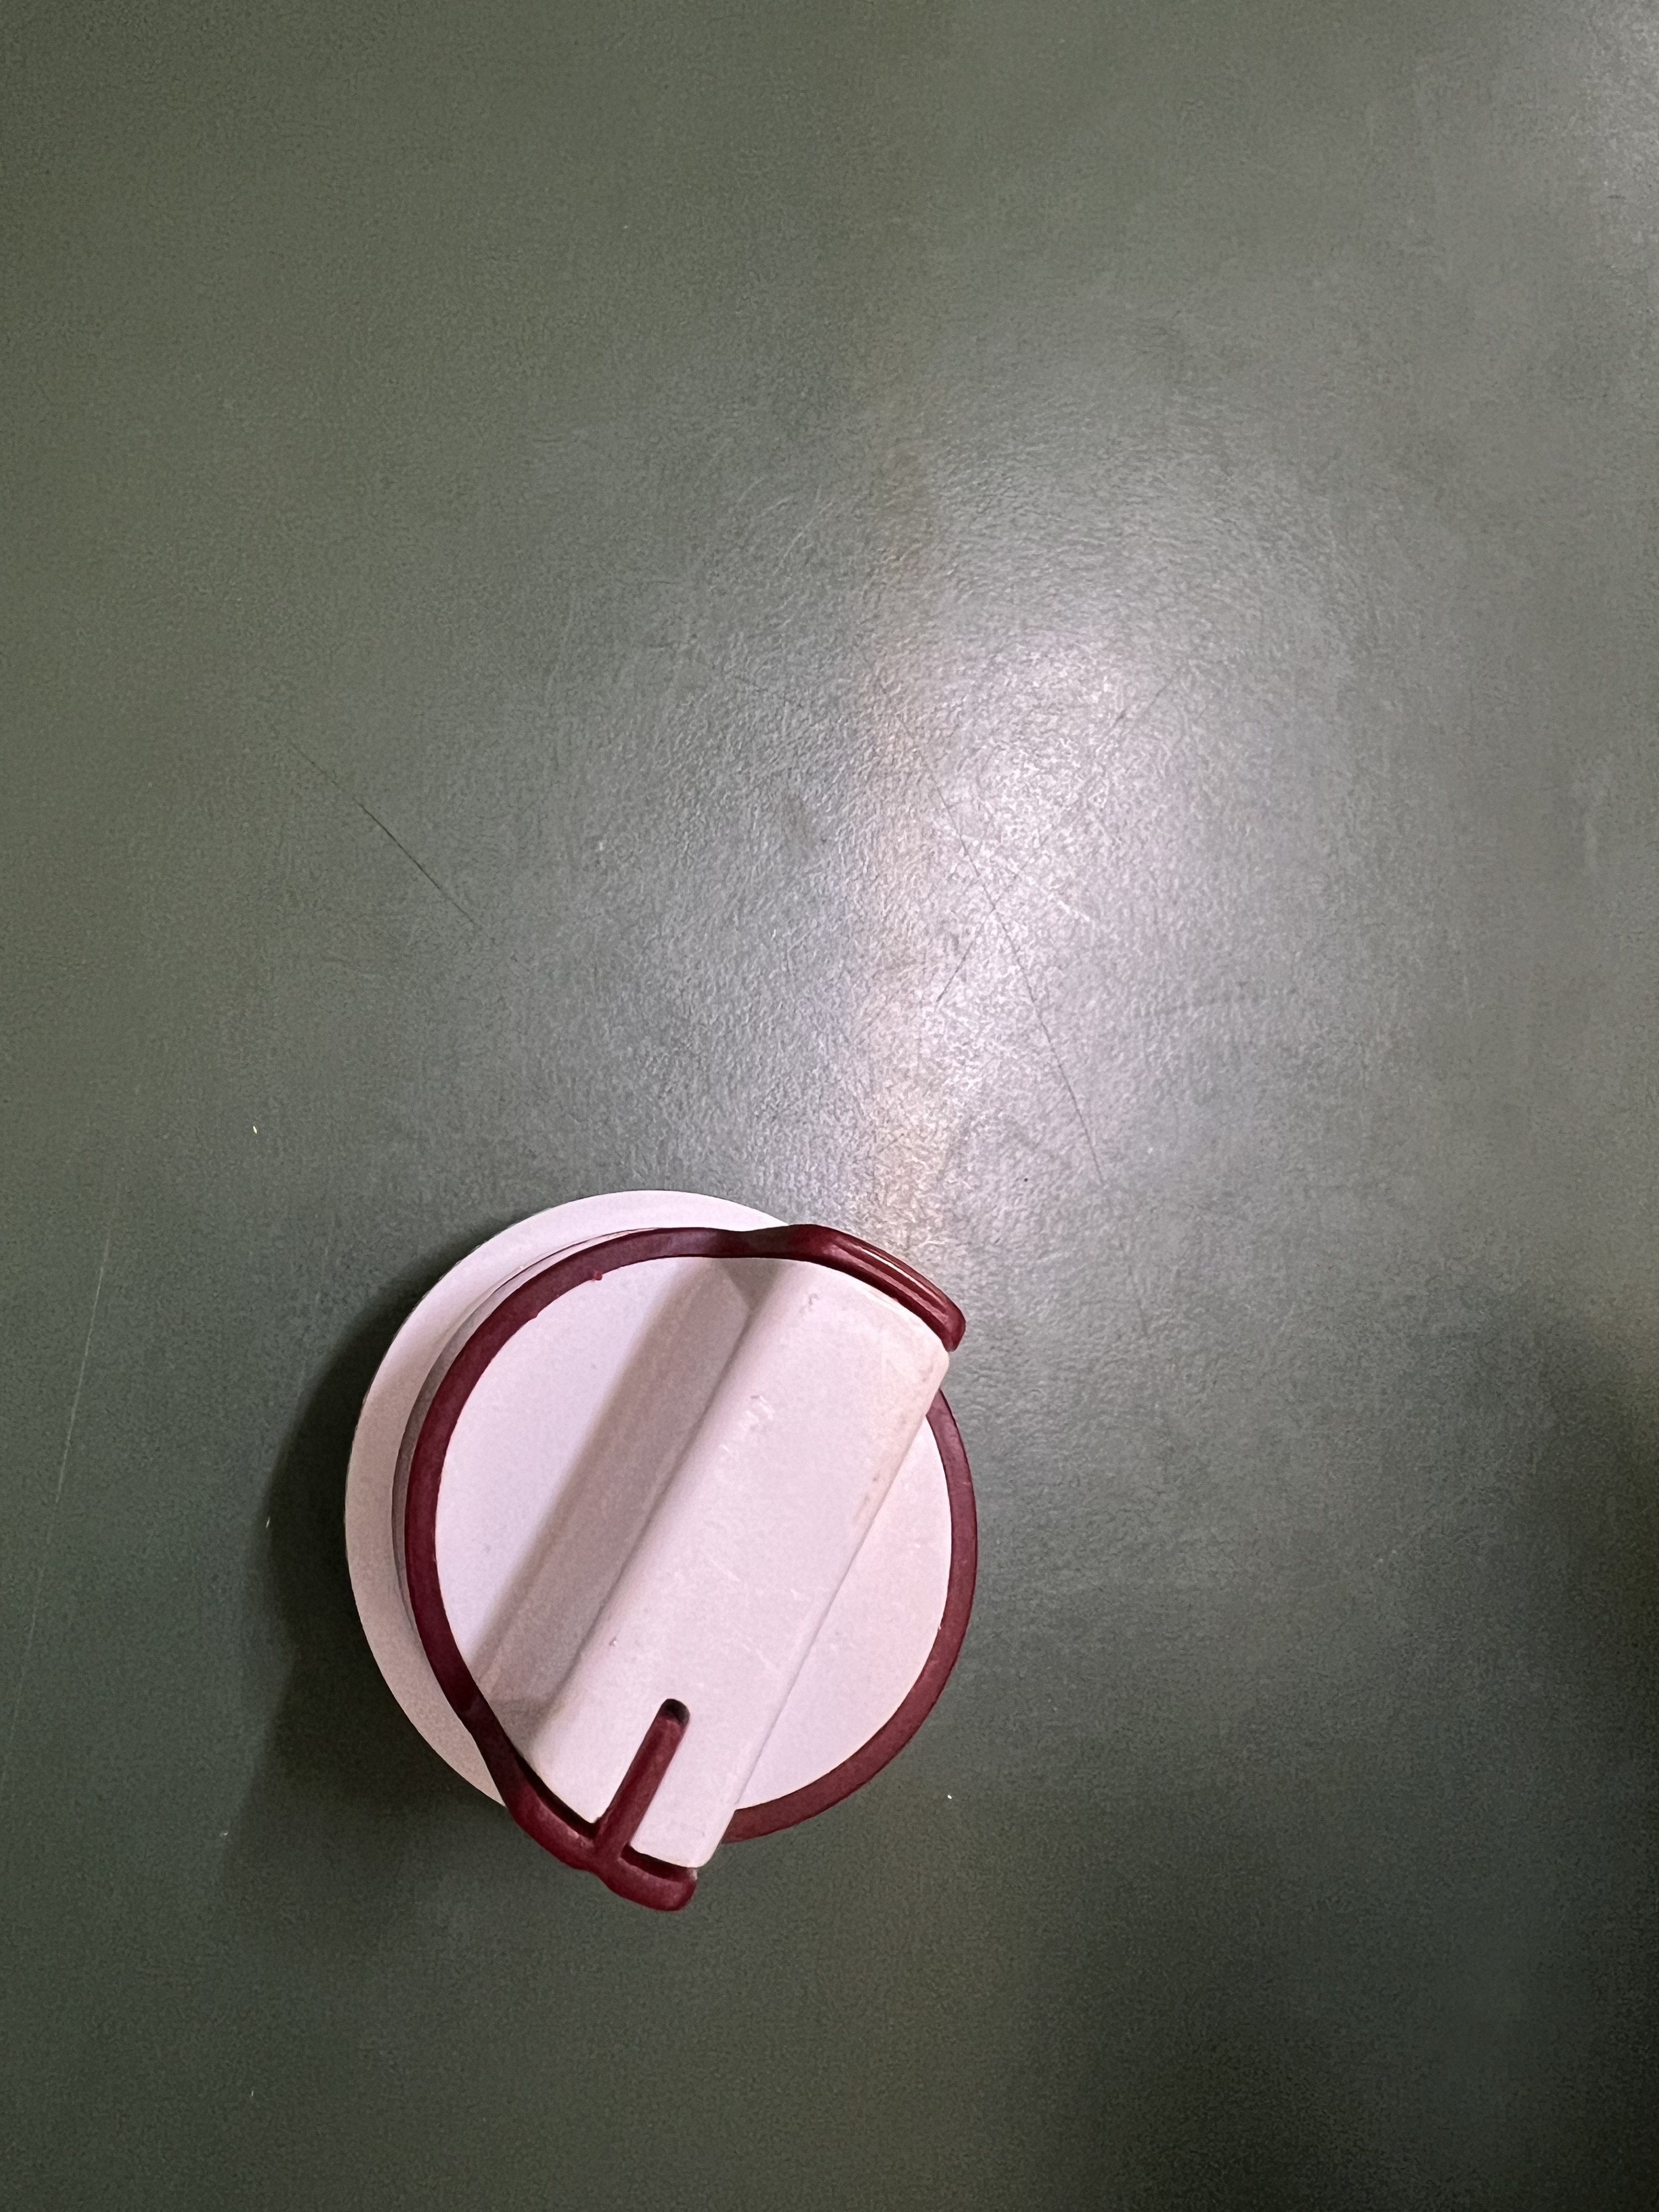regulator: (279, 1143, 1026, 1918)
